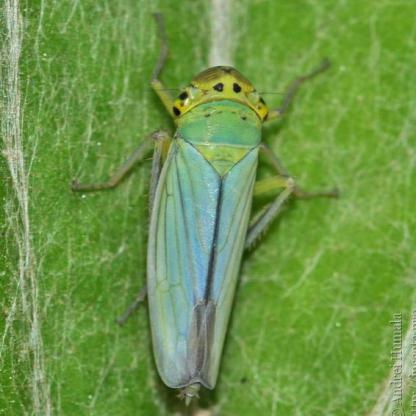Green-Leafhopper: (75, 16, 344, 412)
